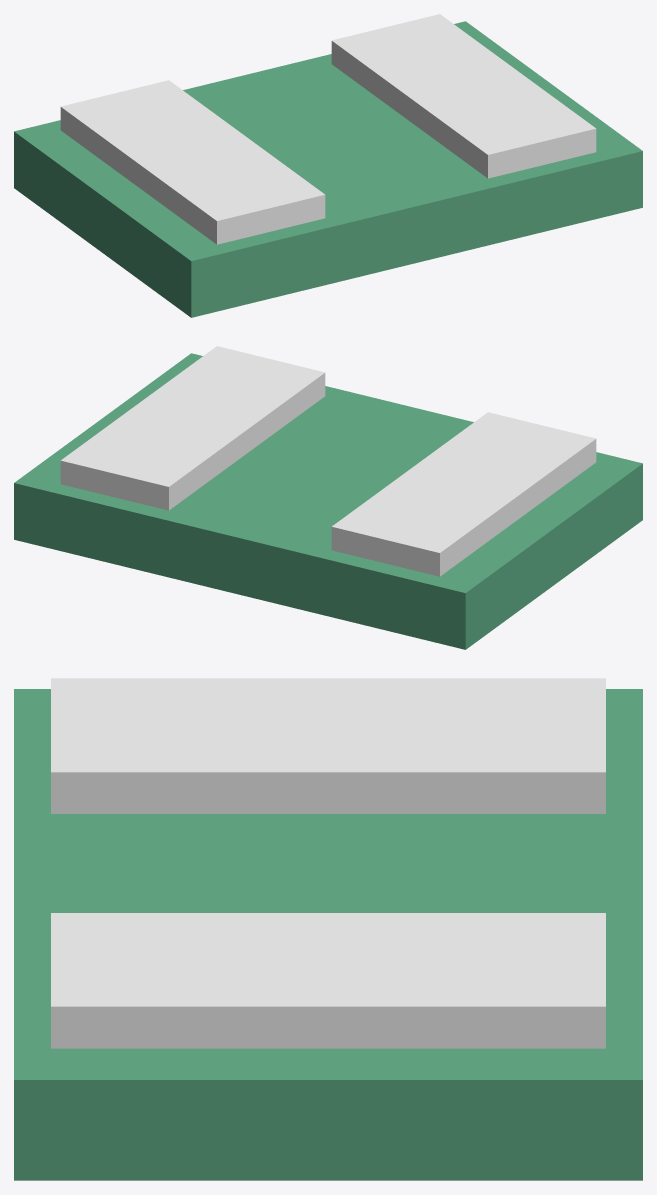
File: pitch_tile.glb
3 renders of one model, top to bottom at view 1: azimuth 30°, elevation 25°; view 2: azimuth 150°, elevation 25°; view 3: azimuth 270°, elevation 25°, orthographic. The views are drawn at different scales.
Parts seen in each view (by area): view 1: pitch_tile; view 2: pitch_tile; view 3: pitch_tile.
Boxes of the visible parts, x1=… form: pitch_tile: x1=14, y1=14, x2=642, y2=317; pitch_tile: x1=14, y1=346, x2=642, y2=649; pitch_tile: x1=14, y1=678, x2=642, y2=1180.
Bounding box in the file's own units: 0.5 × 0.085 × 0.34.
